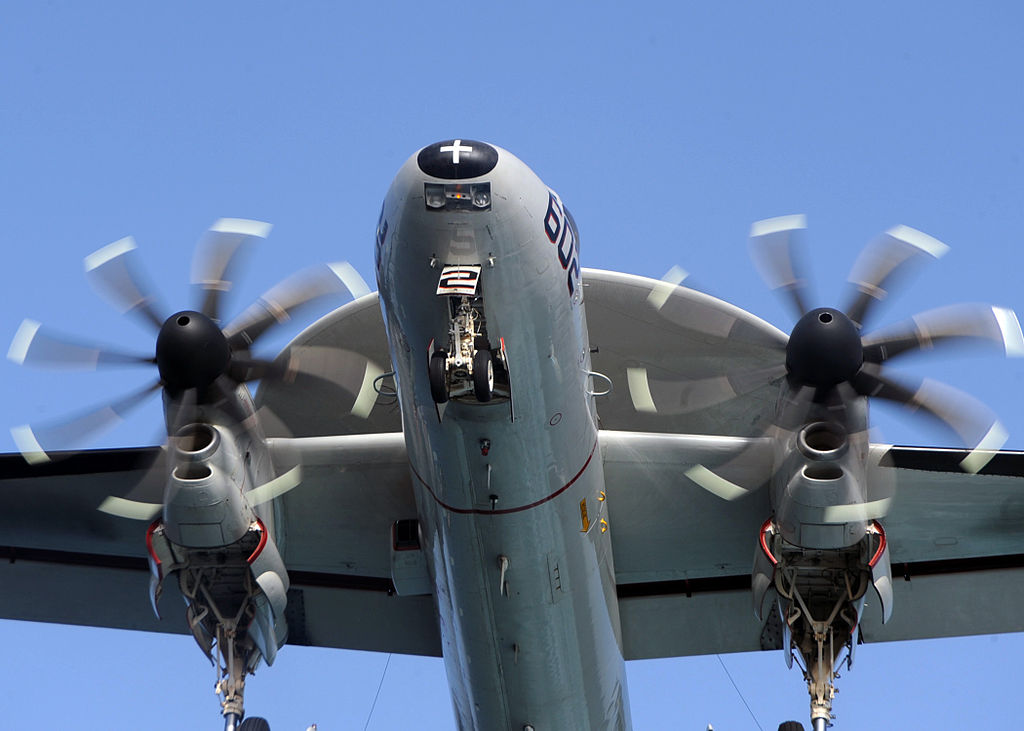E2: (1, 138, 1024, 731)
